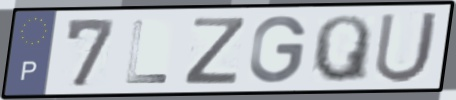7: (63, 16, 118, 89)
G: (247, 13, 310, 86)
L: (123, 17, 171, 86)
Q: (310, 13, 374, 84)
U: (371, 9, 443, 86)
Z: (180, 16, 249, 87)
